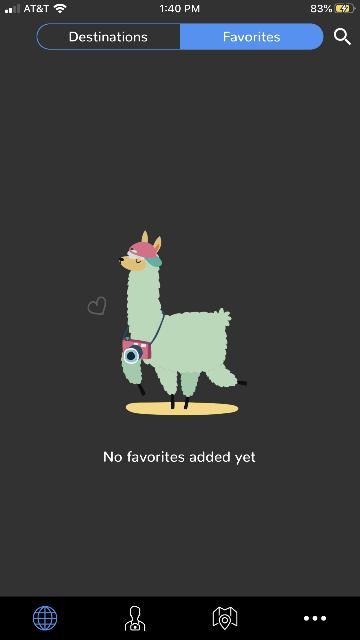Bottom_Navigation: (0, 596, 360, 640)
Icon: (212, 606, 238, 630), (33, 606, 57, 630), (125, 606, 145, 630), (334, 28, 350, 46), (304, 616, 326, 620)
Image: (87, 230, 247, 416)
Text: (104, 452, 256, 464), (69, 32, 147, 42), (224, 32, 280, 42)
TextButton: (36, 23, 180, 49), (180, 24, 323, 50)
UpperTaskBar: (0, 0, 360, 14)
